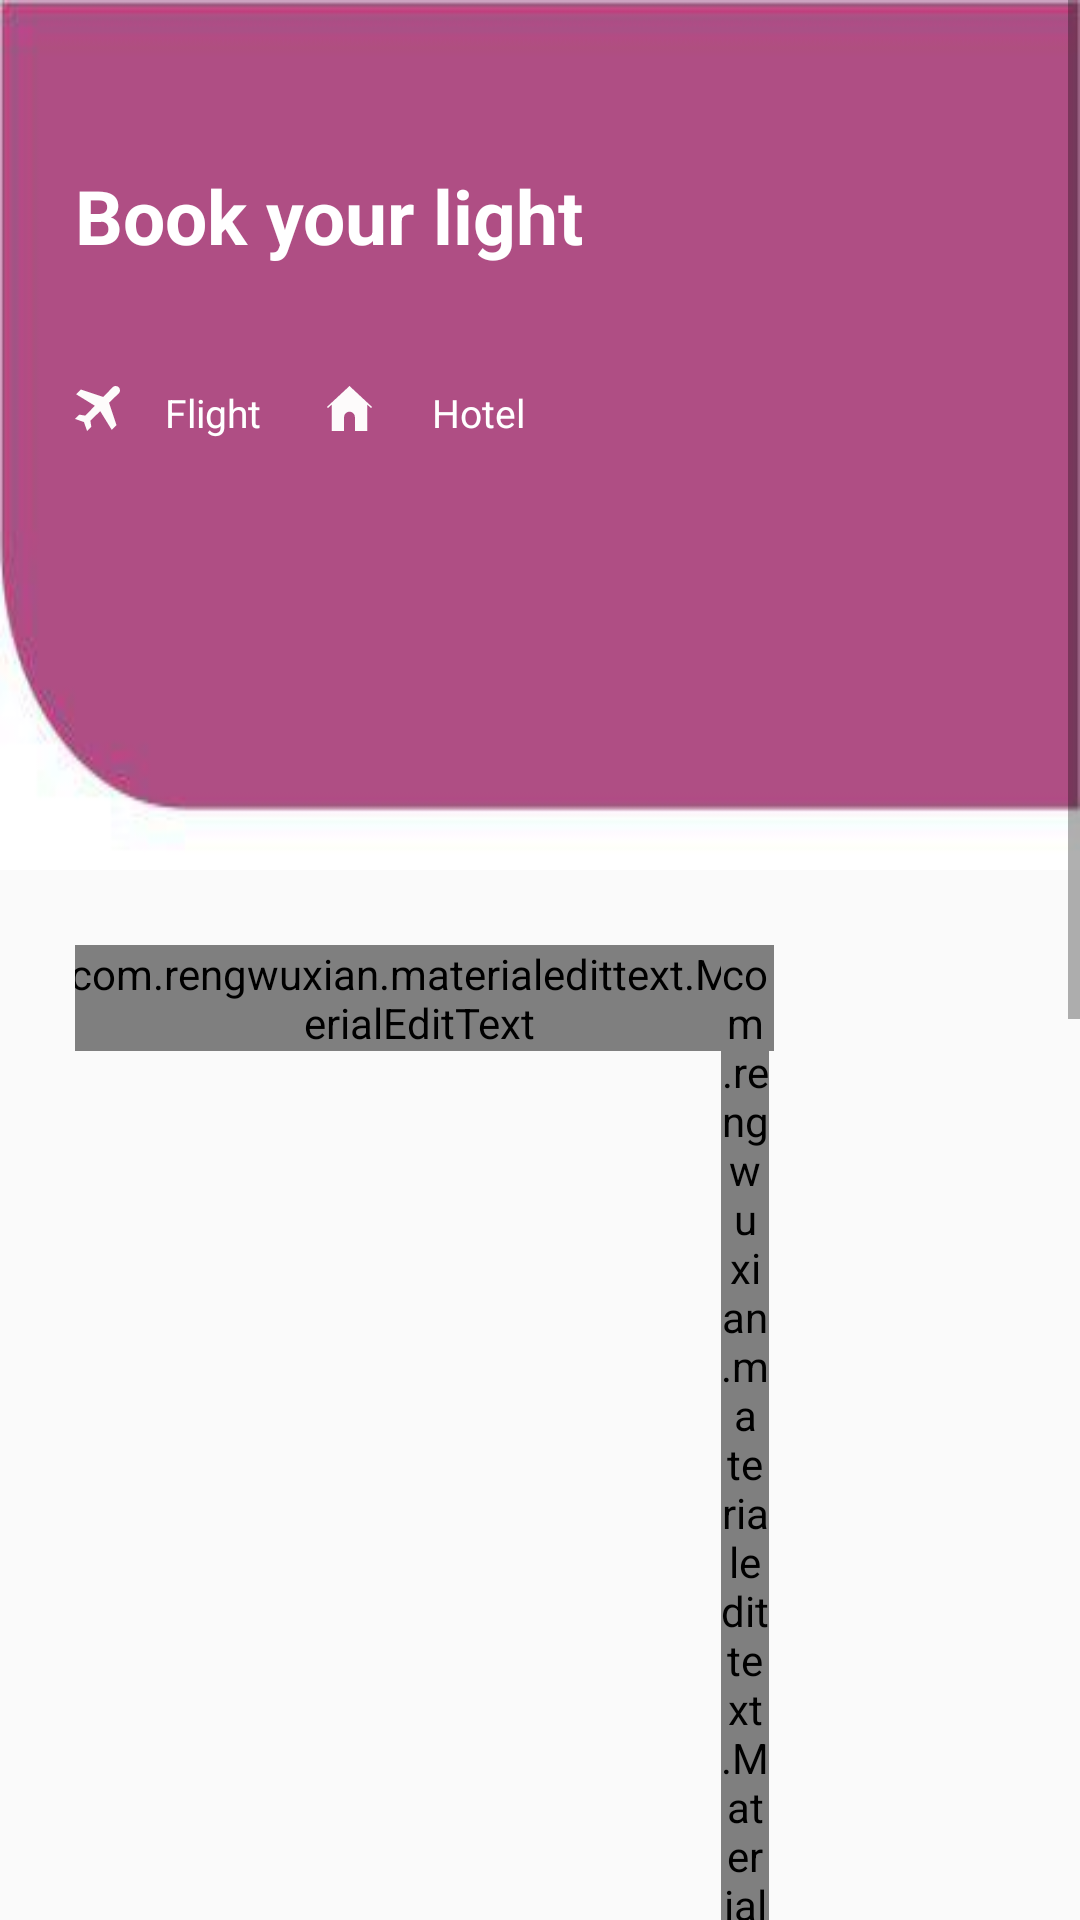

Icons on this 1080×1920 Android screen, each with its box as (x1, y1, x2, y2):
home: (327, 386, 372, 431)
plane: (75, 386, 120, 431)
